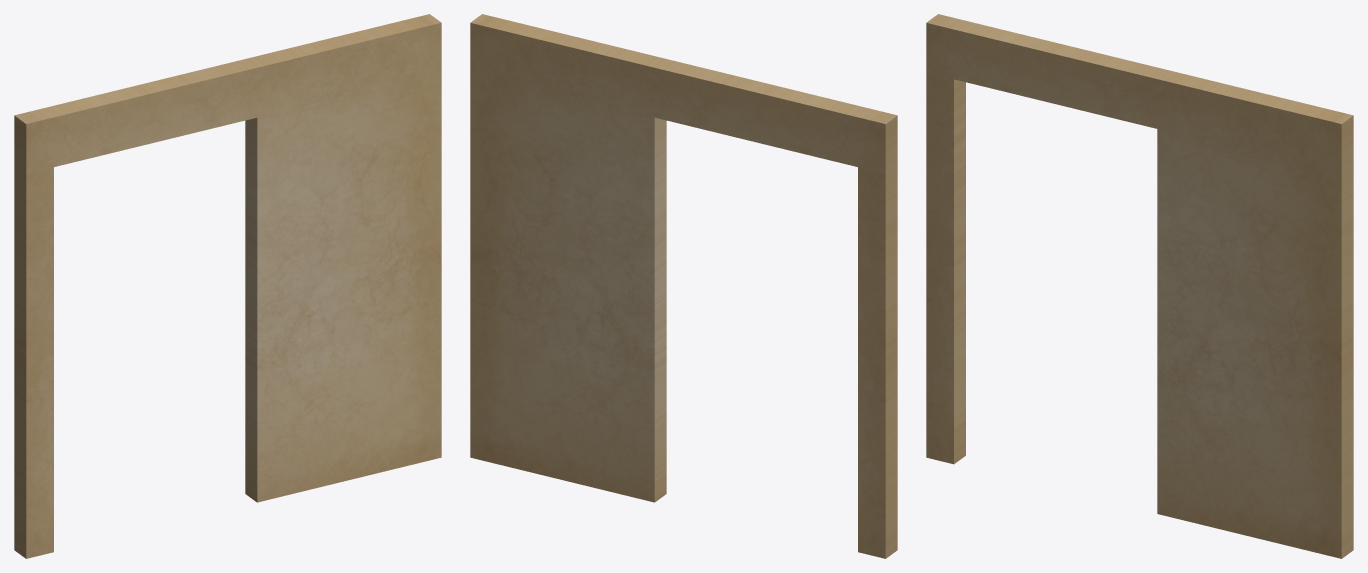
Rendered from Wall01.fbx.
The picture shows the model from 3 angles, left to right: view 1: azimuth 30°, elevation 25°; view 2: azimuth 150°, elevation 25°; view 3: azimuth 330°, elevation 25°; orthographic projection.
Parts seen in each view (by area): view 1: Wall01; view 2: Wall01; view 3: Wall01.
Part boxes in pixels (x1=…): Wall01: x1=14, y1=14, x2=441, y2=558; Wall01: x1=470, y1=14, x2=897, y2=558; Wall01: x1=926, y1=14, x2=1353, y2=558.
Bounding box in the file's own units: 300 × 300 × 15.
